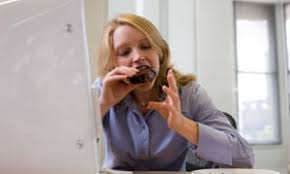eating: (77, 14, 207, 111)
